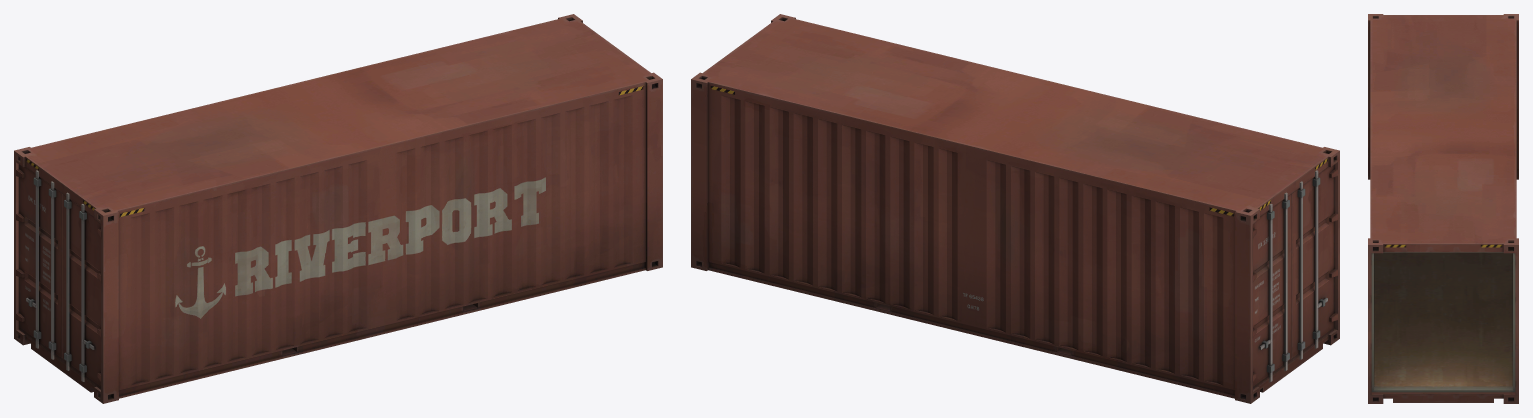
Rendered from shipping_container.dae.
3 views of the same model, side by side, from view 1: azimuth 30°, elevation 25°; view 2: azimuth 150°, elevation 25°; view 3: azimuth 270°, elevation 25° (orthographic). The views are drawn at different scales.
Visible parts, largest first — view 1: shipping_container01c; view 2: shipping_container01c; view 3: shipping_container01c.
Part boxes in pixels (x1,y1,x2,y2): shipping_container01c: (14, 14, 662, 403); shipping_container01c: (691, 14, 1339, 403); shipping_container01c: (1368, 14, 1518, 403).
Size of the model in its own units: 8.84 by 2.44 by 2.84.
2 materials, 2 textured.
